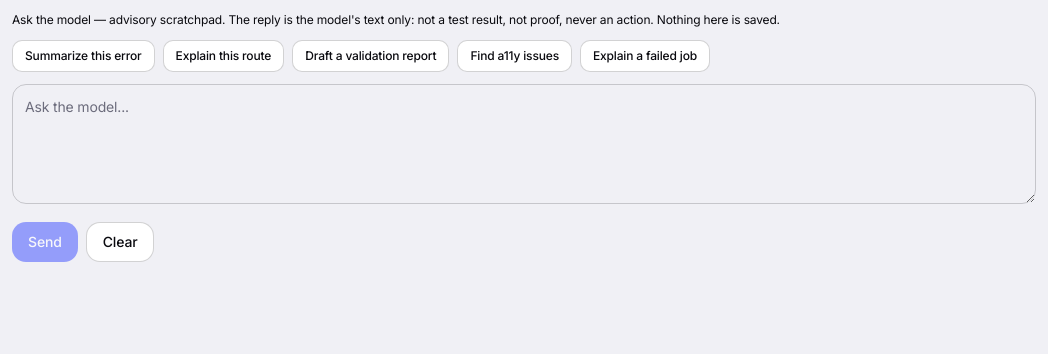
Test case: AiScratchpad — 9.10 backend wiring › Clear resets the prompt and the response
Type "hi" into the text box named "prompt" at (524, 144), box top-left (12, 84), bottom-right (1036, 204)
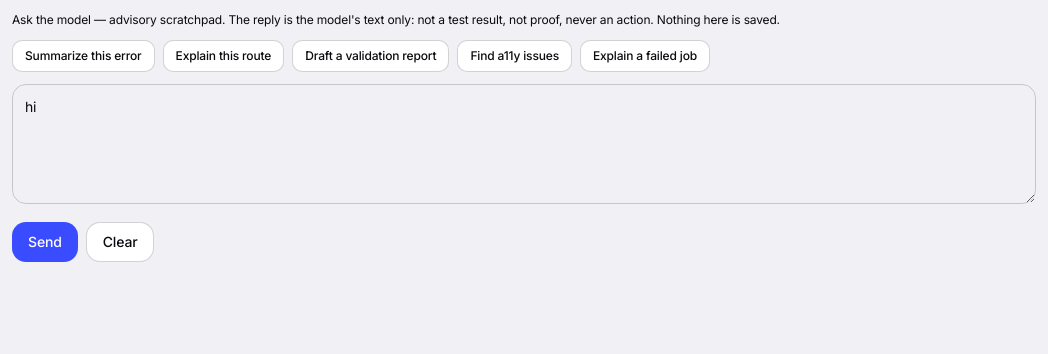
Click the button "Send" at (45, 242), box top-left (12, 222), bottom-right (78, 262)
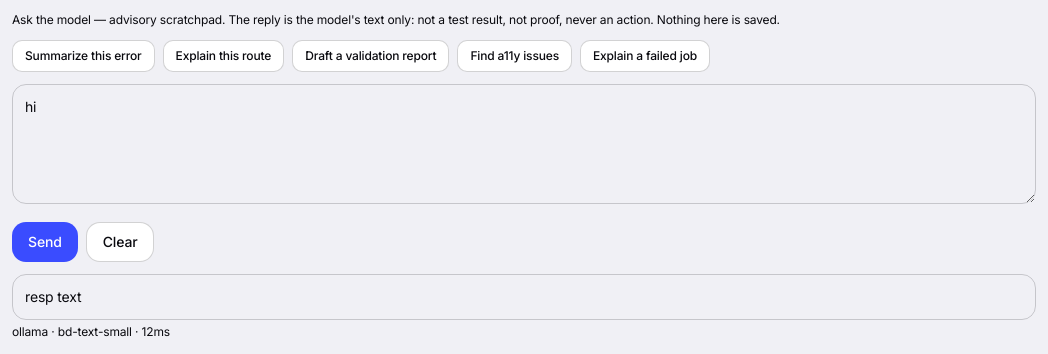
Result: the text "resp text" is shown at top-left (12, 274), bottom-right (1036, 320)
Click the button "Clear" at (120, 242), box top-left (86, 222), bottom-right (154, 262)
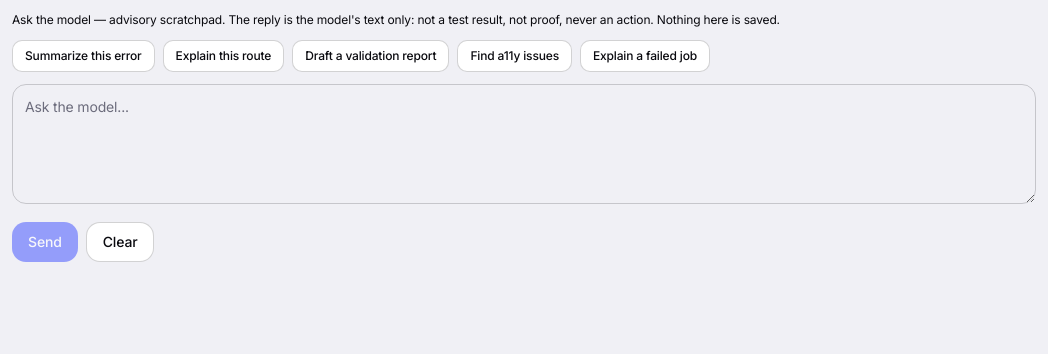
Result: the text with test id "ai-response" is gone
Result: the text box named "prompt" is empty at top-left (12, 84), bottom-right (1036, 204)
